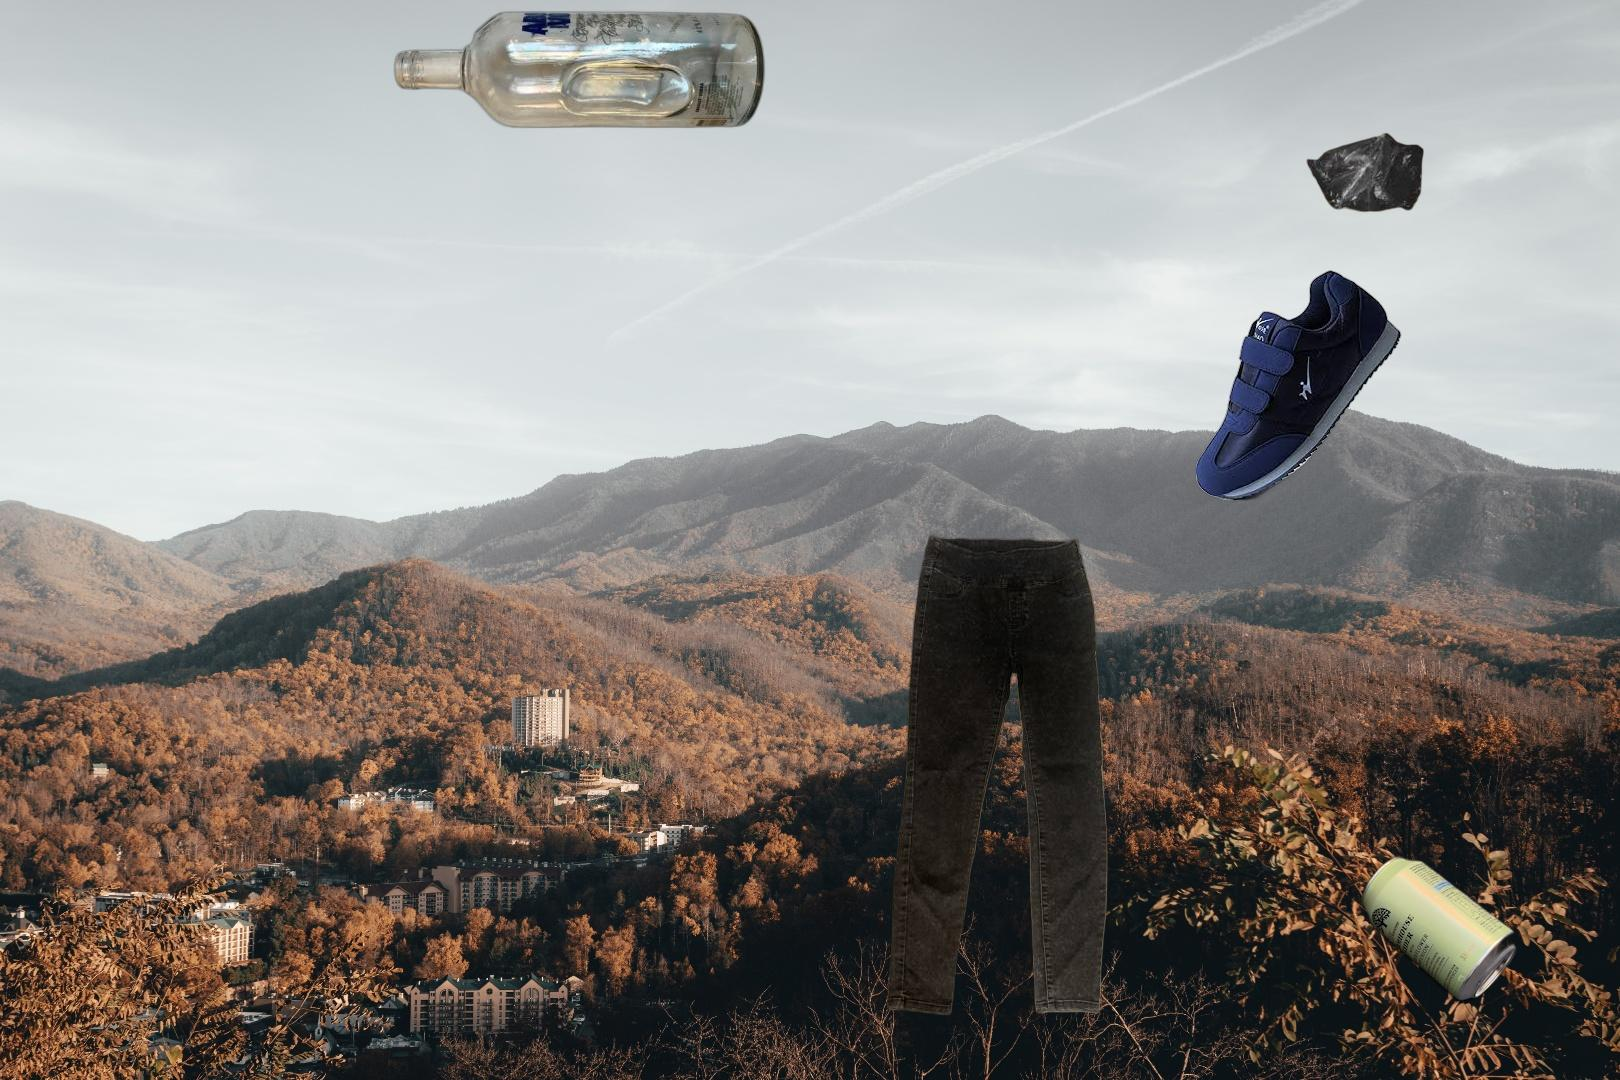clothes: (816, 532, 1111, 1020)
glass: (391, 8, 768, 129)
metal-cans: (1356, 850, 1521, 1008)
plastic-bag: (1304, 133, 1426, 215)
shoes: (1195, 269, 1404, 505)
